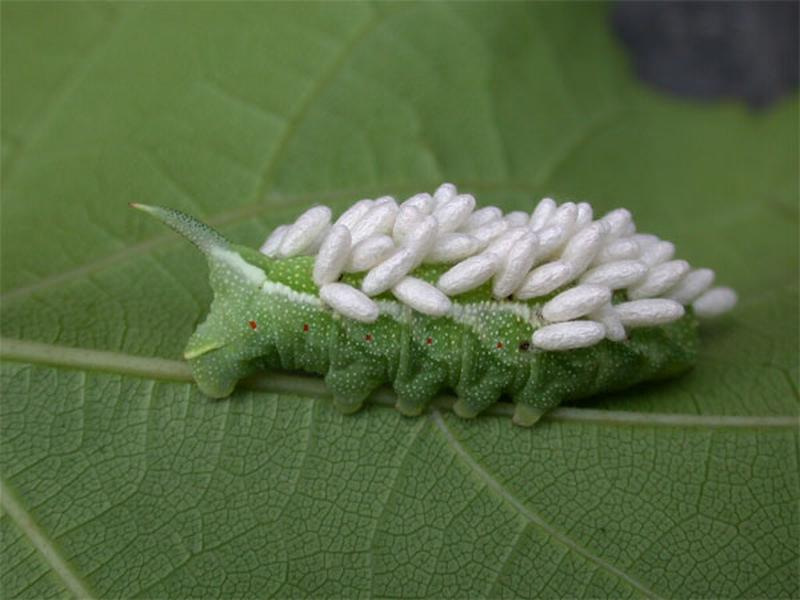Rice_horned_caterpillar: (145, 187, 729, 429)
